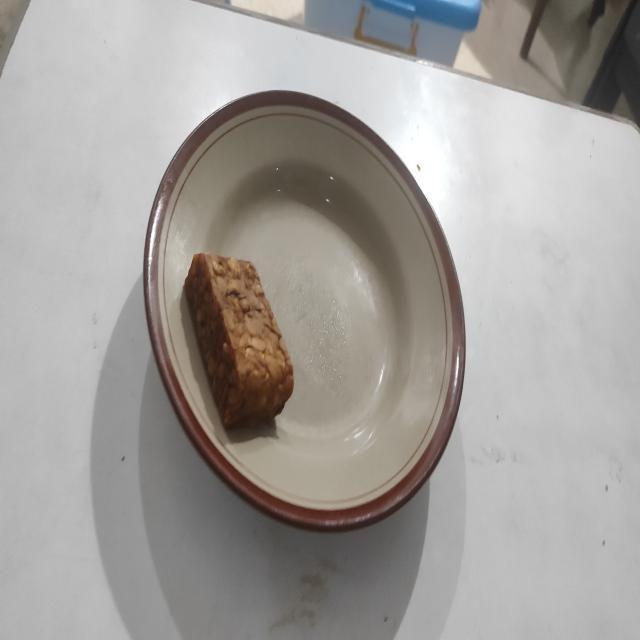tempe_goreng: (184, 254, 294, 428)
